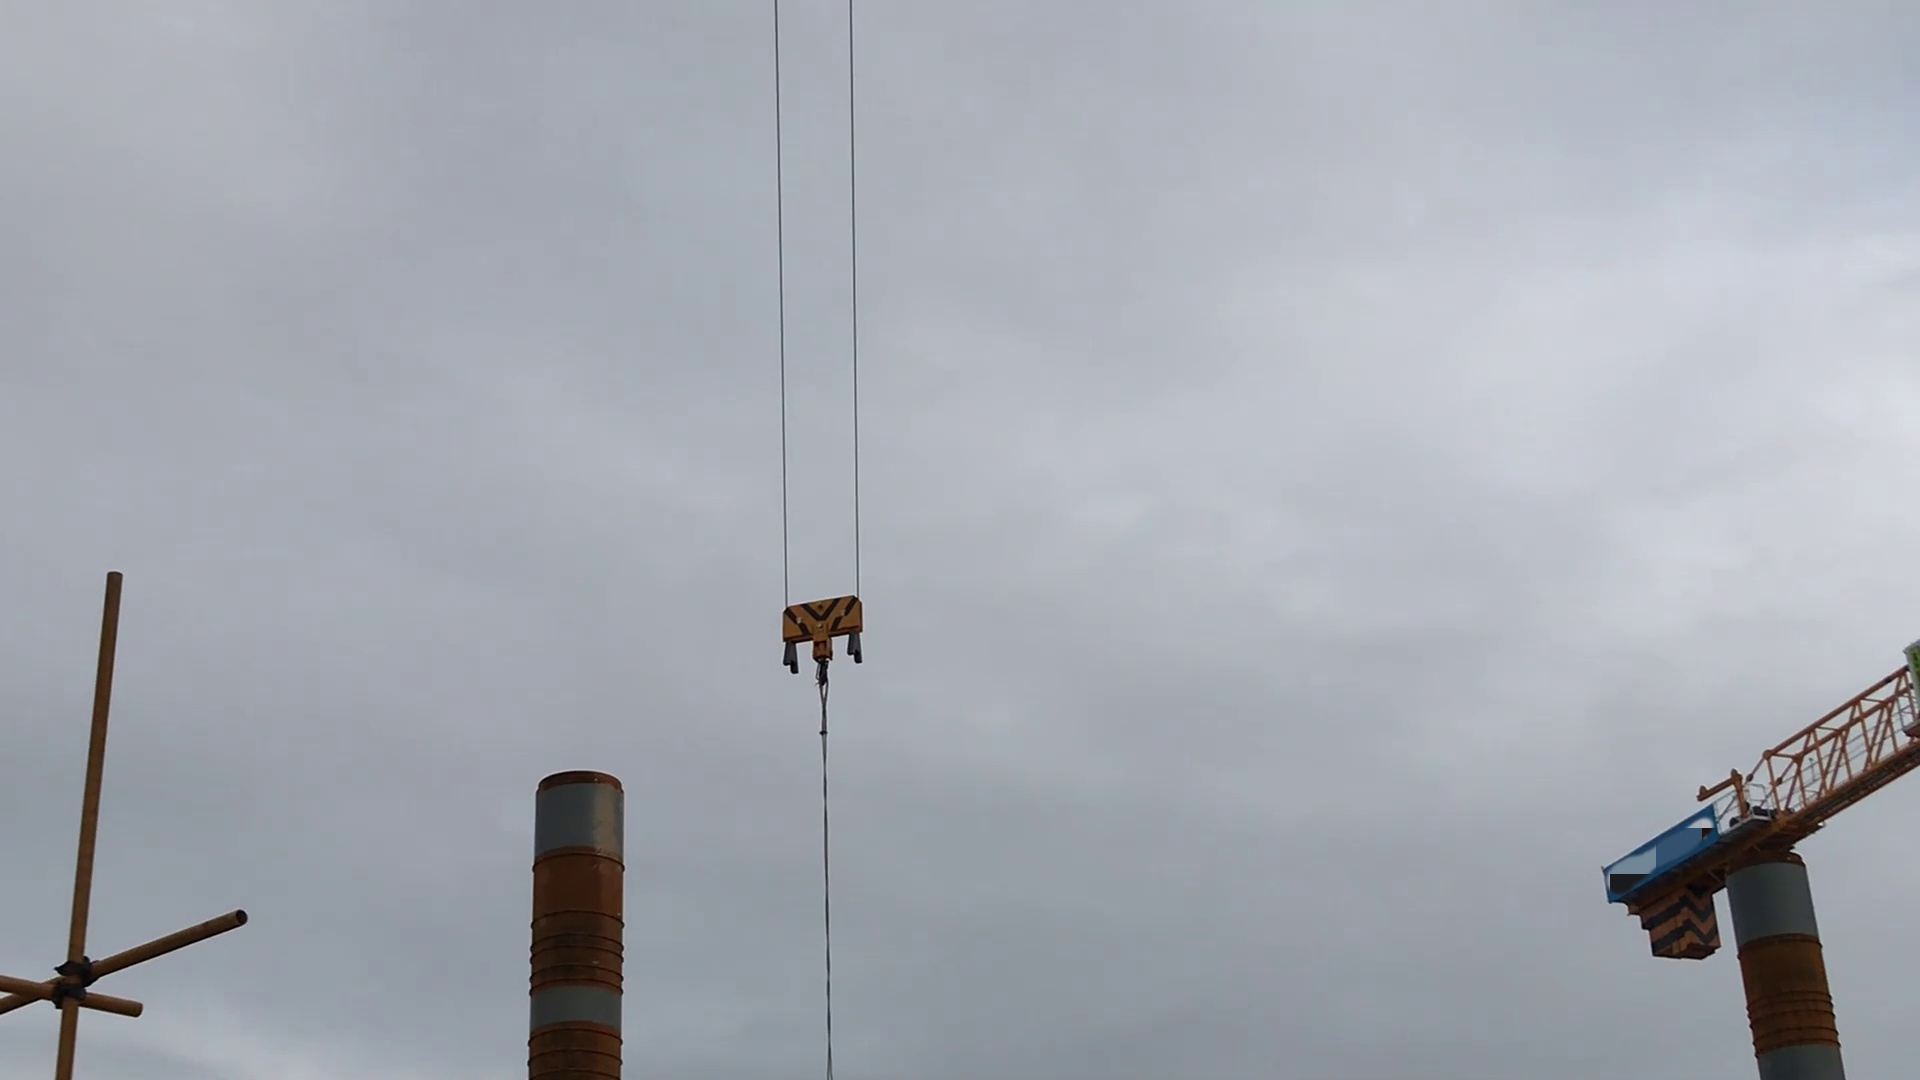hook: (771, 589, 869, 702)
